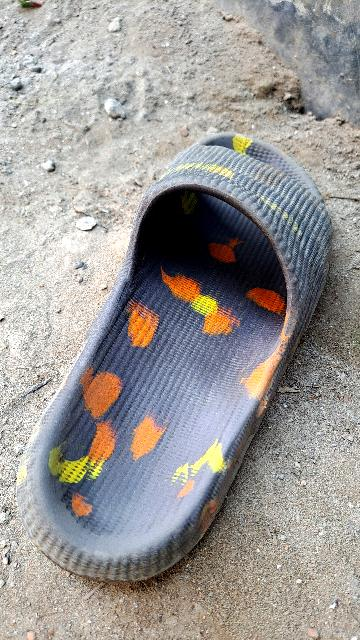sandal: (0, 119, 360, 615)
